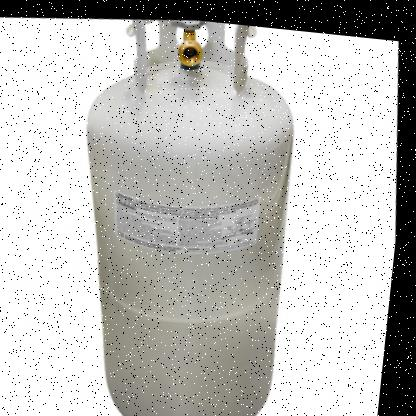gas-tank: (45, 6, 347, 415)
